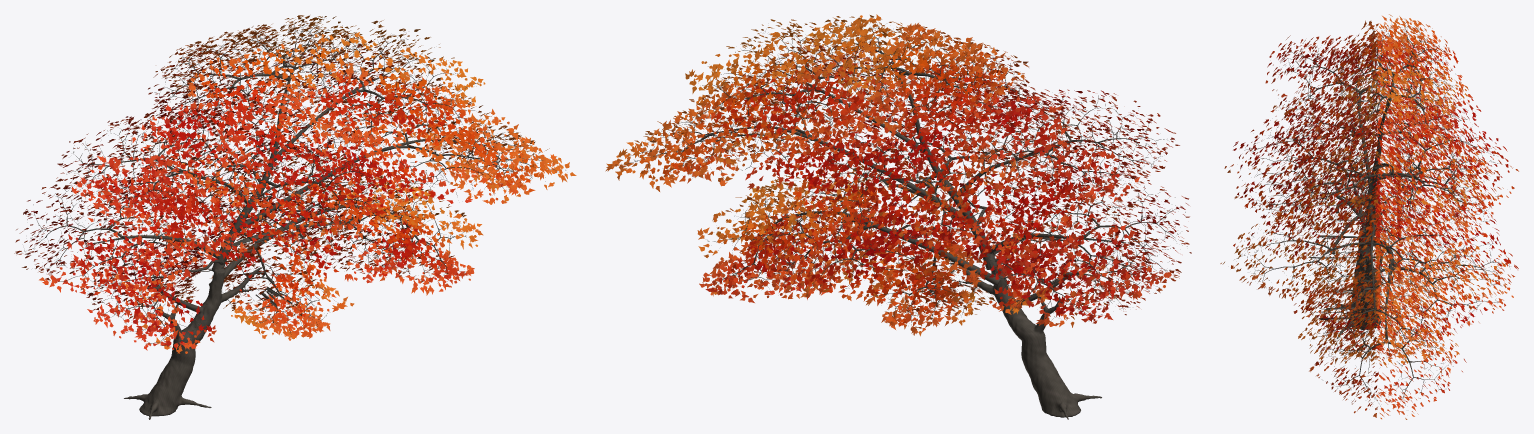
The model's file is wish-tree-natural-r03-mobile.glb.
3 views of the same model, side by side, from view 1: azimuth 30°, elevation 25°; view 2: azimuth 150°, elevation 25°; view 3: azimuth 270°, elevation 25° (orthographic). The views are drawn at different scales.
Visible parts, largest first — view 1: CANOPY_heart, CANOPY_crown, CANOPY_upper-left, CANOPY_right-upper, CANOPY_left-shelf, WOOD_natural_trunk, CANOPY_right-middle, CANOPY_lower-heart, CANOPY_left-lower, CANOPY_lower-fall, CANOPY_right-fall, TWIGS_heart (+10 smaller); view 2: CANOPY_heart, CANOPY_crown, CANOPY_lower-heart, CANOPY_right-upper, CANOPY_upper-left, CANOPY_left-shelf, WOOD_natural_trunk, CANOPY_right-middle, CANOPY_left-lower, CANOPY_right-fall, CANOPY_lower-fall, TWIGS_heart (+10 smaller); view 3: CANOPY_heart, CANOPY_crown, CANOPY_lower-heart, CANOPY_right-upper, CANOPY_right-middle, CANOPY_upper-left, CANOPY_right-fall, CANOPY_left-shelf, WOOD_natural_trunk, TWIGS_heart, CANOPY_right-reach, TWIGS_lower-heart (+11 smaller).
Boxes of the visible parts, bbox=[...] form: CANOPY_heart: bbox=[146, 78, 396, 267]; CANOPY_crown: bbox=[144, 15, 392, 141]; CANOPY_upper-left: bbox=[56, 102, 269, 217]; CANOPY_right-upper: bbox=[277, 20, 485, 163]; CANOPY_left-shelf: bbox=[14, 178, 220, 295]; WOOD_natural_trunk: bbox=[86, 43, 493, 419]; CANOPY_right-middle: bbox=[318, 66, 555, 204]; CANOPY_lower-heart: bbox=[211, 149, 427, 284]; CANOPY_left-lower: bbox=[81, 234, 252, 353]; CANOPY_lower-fall: bbox=[210, 245, 354, 340]; CANOPY_right-fall: bbox=[346, 180, 483, 295]; TWIGS_heart: bbox=[163, 95, 381, 252]; CANOPY_heart: bbox=[794, 77, 1071, 265]; CANOPY_crown: bbox=[779, 14, 1063, 131]; CANOPY_lower-heart: bbox=[746, 145, 976, 299]; CANOPY_right-upper: bbox=[685, 19, 913, 157]; CANOPY_upper-left: bbox=[942, 87, 1179, 205]; CANOPY_left-shelf: bbox=[983, 168, 1191, 300]; WOOD_natural_trunk: bbox=[689, 38, 1125, 419]; CANOPY_right-middle: bbox=[653, 46, 894, 195]; CANOPY_left-lower: bbox=[948, 222, 1171, 327]; CANOPY_right-fall: bbox=[697, 179, 832, 302]; CANOPY_lower-fall: bbox=[846, 250, 1008, 336]; TWIGS_heart: bbox=[814, 82, 1058, 252]; CANOPY_heart: bbox=[1224, 96, 1518, 243]; CANOPY_crown: bbox=[1315, 14, 1468, 139]; CANOPY_lower-heart: bbox=[1275, 225, 1518, 350]; CANOPY_right-upper: bbox=[1275, 135, 1495, 233]; CANOPY_right-middle: bbox=[1220, 202, 1480, 302]; CANOPY_upper-left: bbox=[1265, 33, 1449, 121]; CANOPY_right-fall: bbox=[1309, 297, 1466, 419]; CANOPY_left-shelf: bbox=[1277, 89, 1481, 181]; WOOD_natural_trunk: bbox=[1335, 83, 1393, 357]; TWIGS_heart: bbox=[1244, 112, 1500, 230]; CANOPY_right-reach: bbox=[1294, 297, 1448, 364]; TWIGS_lower-heart: bbox=[1298, 231, 1509, 337].
Bounding box in the file's own units: 11.29 × 7.17 × 5.72.
Materials: 3 (3 with a texture image).
